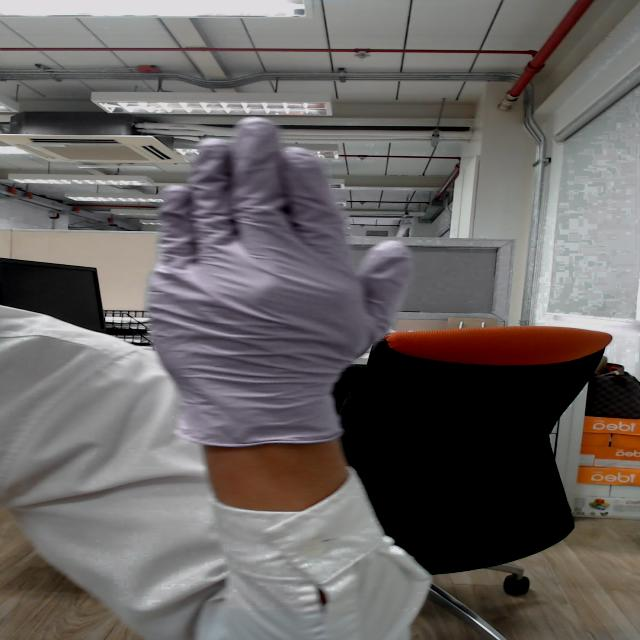glove: (71, 100, 455, 412)
